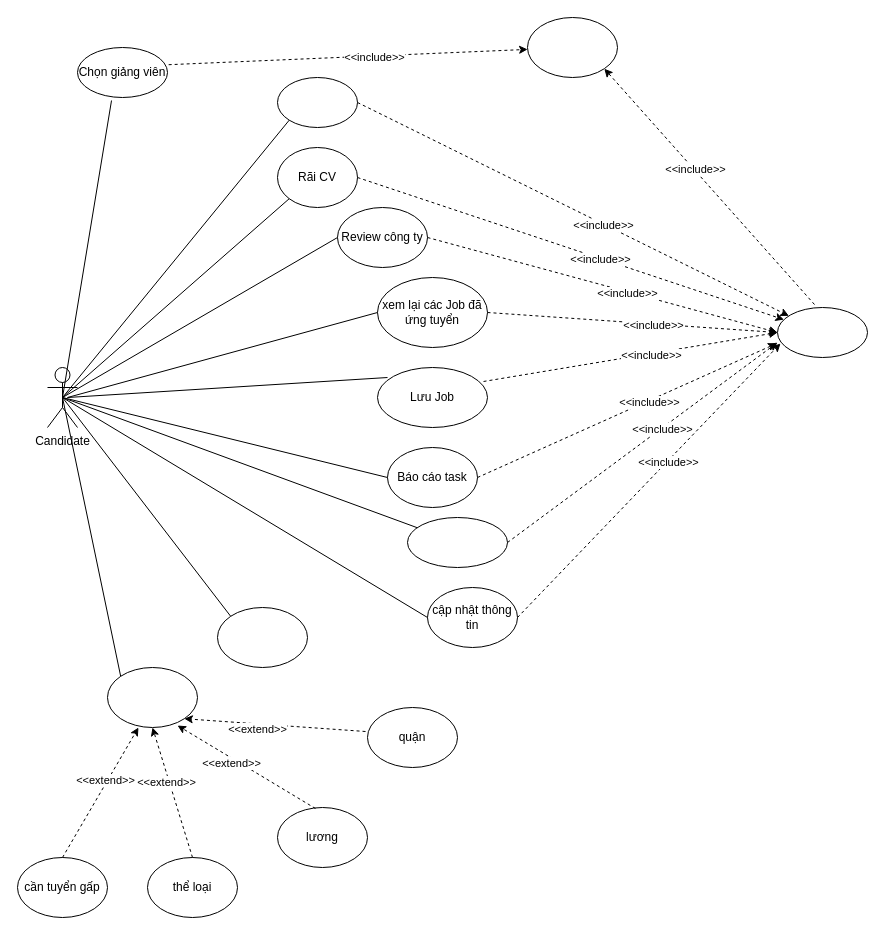
This 885x935 diagram has some shape labels left out. The shapes that lost their labels are listed below. From the top down, each one's box as (x1, y1, x2, y2) in pixels, then its label:
(526, 16, 618, 78): Đăng kí
(276, 76, 358, 128): Post CV
(776, 306, 868, 358): Đăng Nhập
(406, 516, 508, 568): report post
(216, 606, 308, 668): Xem chi tiết job
(106, 666, 198, 728): Lọc job
